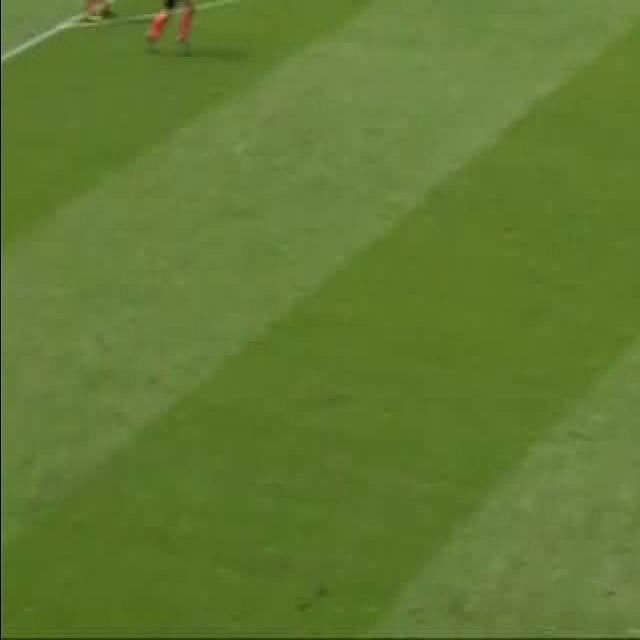player-white: (145, 0, 196, 50), (80, 0, 109, 20)
